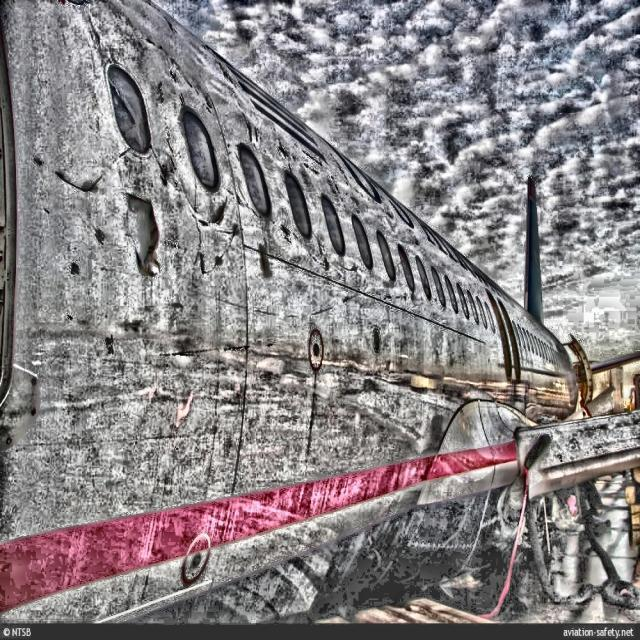crack: (122, 192, 165, 280)
